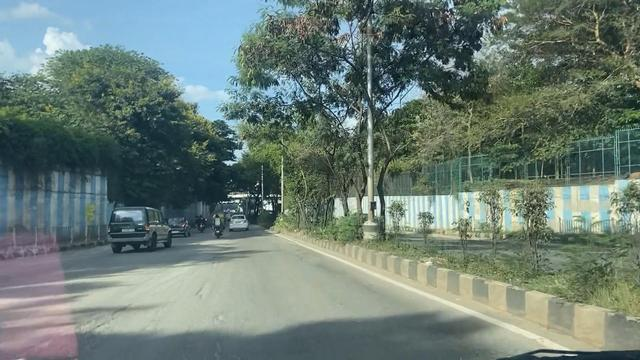LMV: (114, 205, 171, 251)
RoadDamages: (41, 305, 134, 353), (188, 267, 220, 310)
